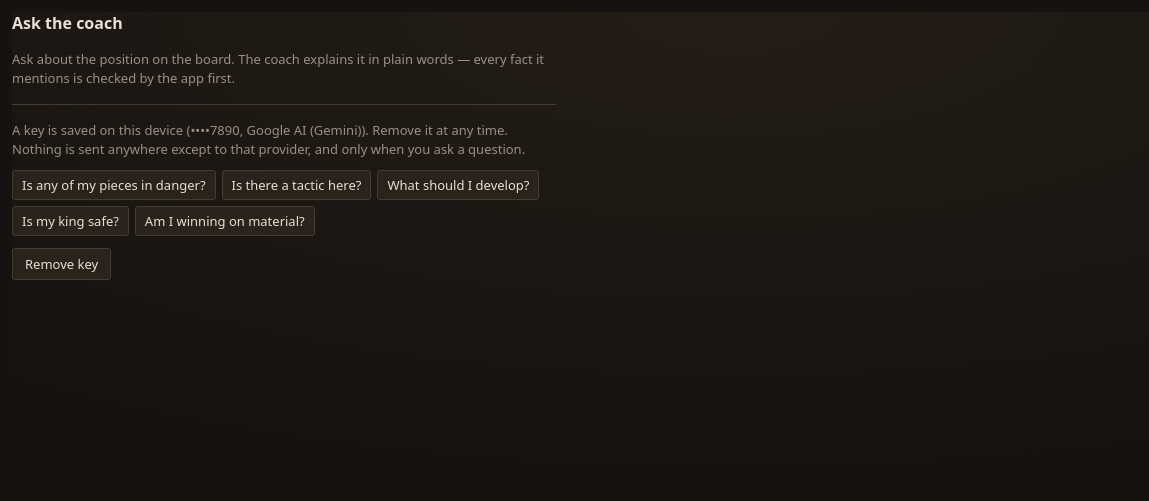
Test: CoachPanel: the facts survive every failure › shows the facts when the key is rejected
This screenshot has width=1149, height=501.
What coordinates should you click on to do the following:
click the button with test id "coach-ask-hanging"
I would click on:
 (114, 185)
Its box is left=12, top=170, right=216, bottom=200.
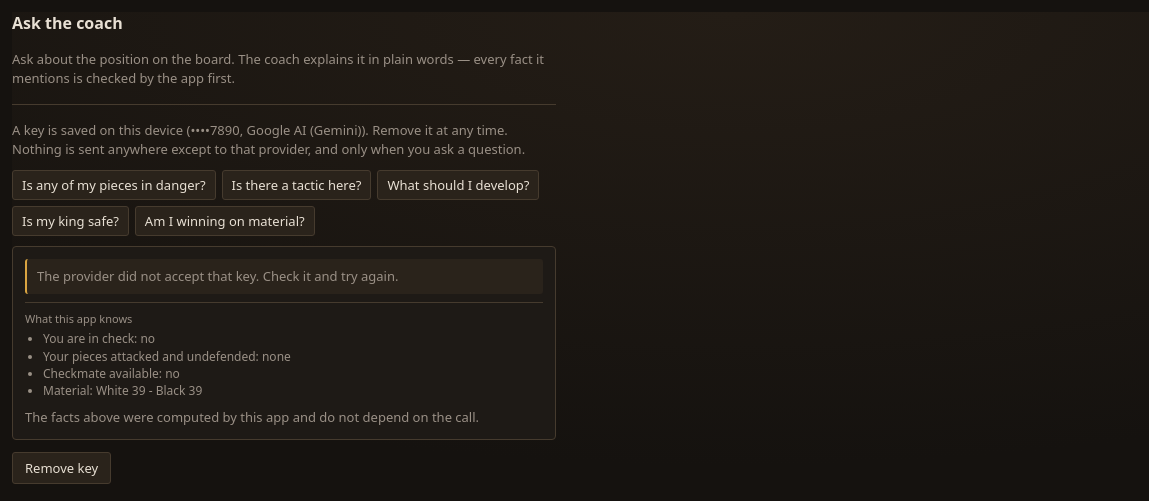
Expected: the message with test id "coach-failure" shows "did not accept that key", left=37, top=267, right=398, bottom=285
Expected: the element with test id "coach-facts" is shown, left=25, top=302, right=543, bottom=400
Expected: the element with test id "coach-facts" shows "Material", left=43, top=382, right=202, bottom=399
